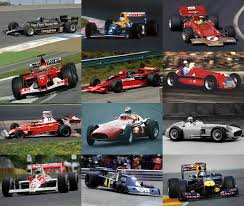FormulaOneCar: (7, 52, 79, 100), (166, 160, 241, 203), (3, 158, 79, 198), (84, 4, 160, 43)
